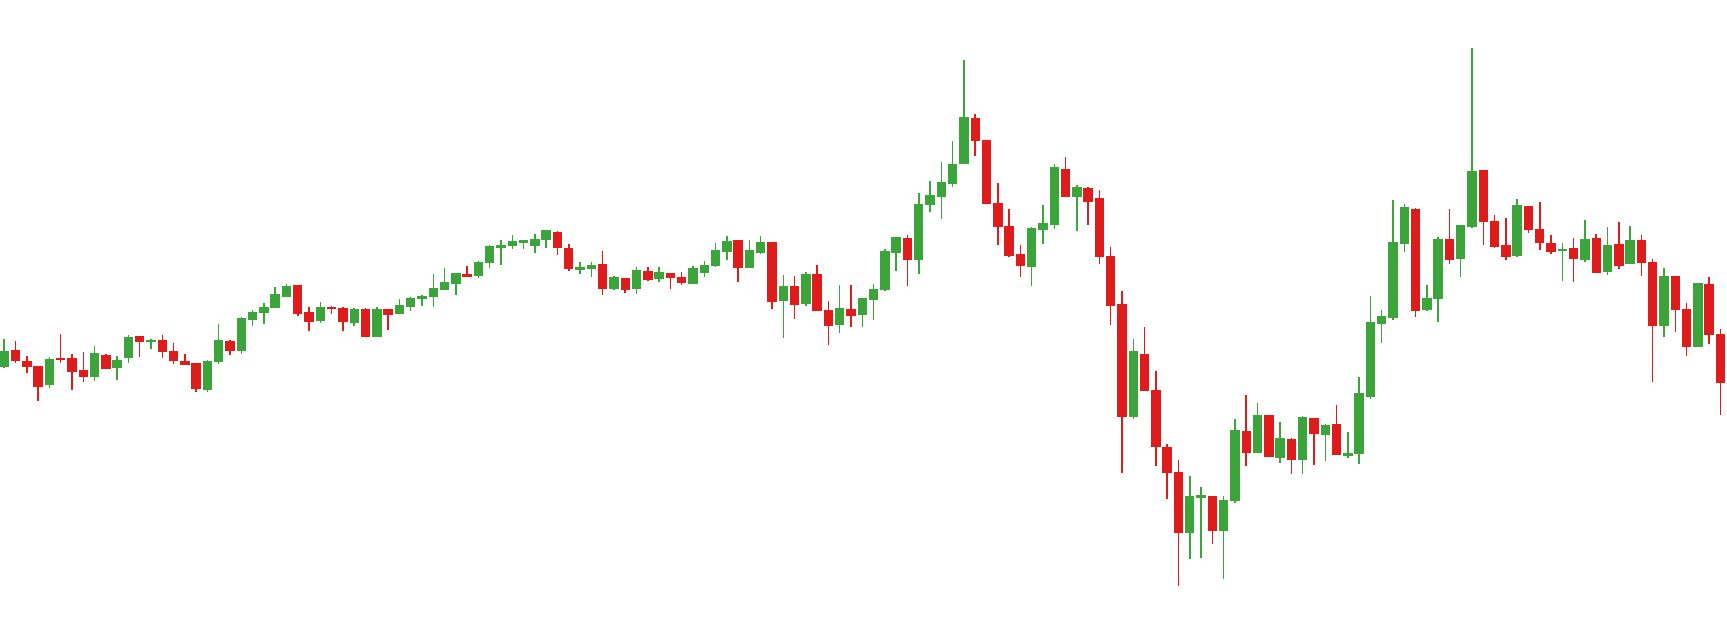buy: (102, 348, 213, 398), (778, 288, 846, 348)
